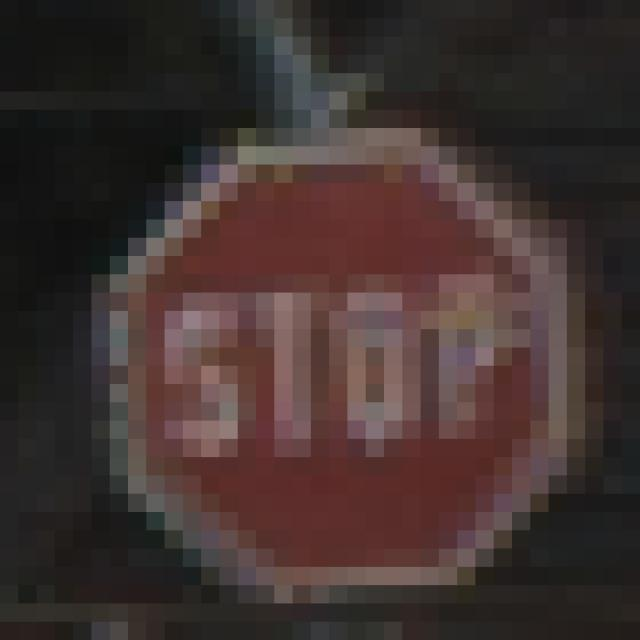STOP: (93, 93, 550, 550)
